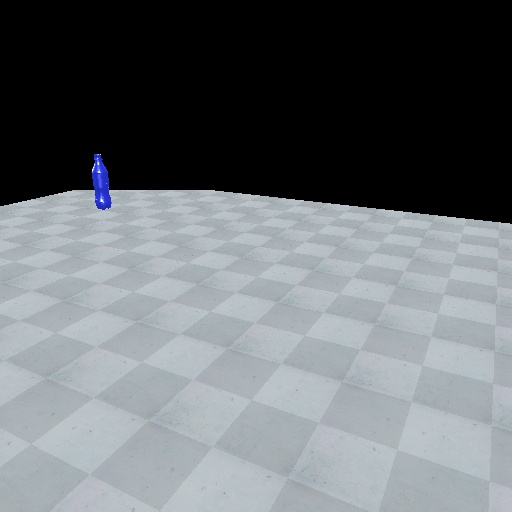bottle: (88, 152, 113, 211)
